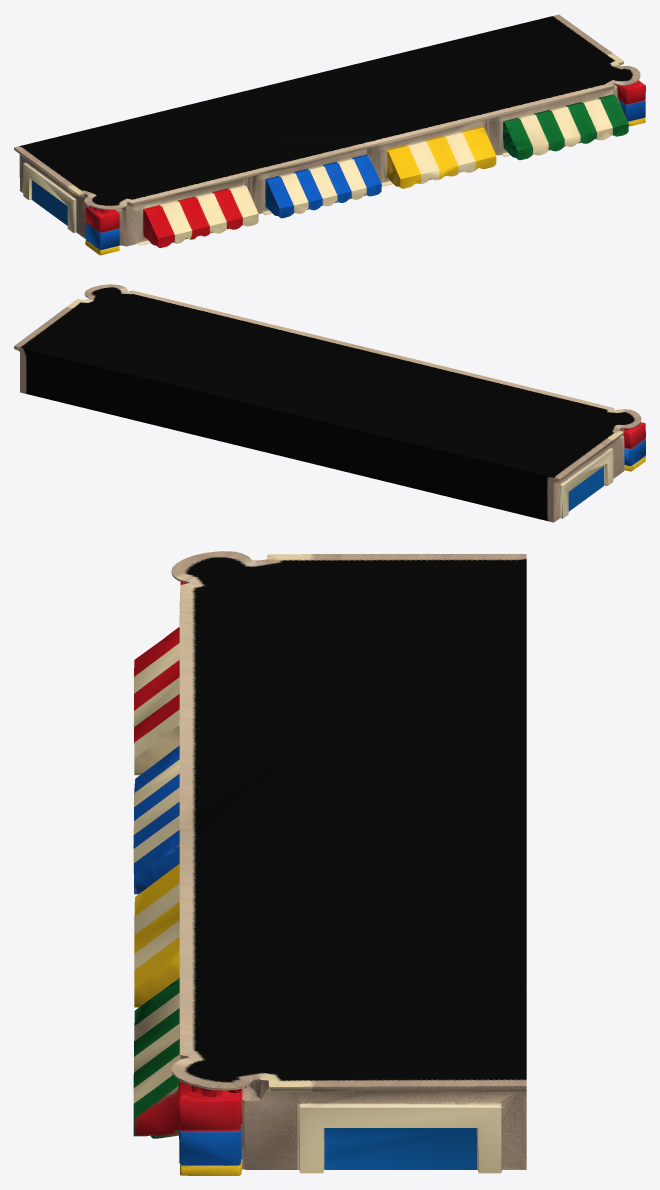
File: 5-upper-walls-front.fbx
3 renders of one model, top to bottom at view 1: azimuth 30°, elevation 25°; view 2: azimuth 150°, elevation 25°; view 3: azimuth 270°, elevation 25°, orthographic. The views are drawn at different scales.
Parts seen in each view (by area): view 1: upper-walls-front; view 2: upper-walls-front; view 3: upper-walls-front.
Part boxes in pixels (bbox=[...]): upper-walls-front: bbox=[14, 14, 645, 255]; upper-walls-front: bbox=[14, 284, 645, 522]; upper-walls-front: bbox=[133, 551, 526, 1175].
Size of the model in its own units: 14902 by 1158 by 4603.
1 material, 1 textured.
